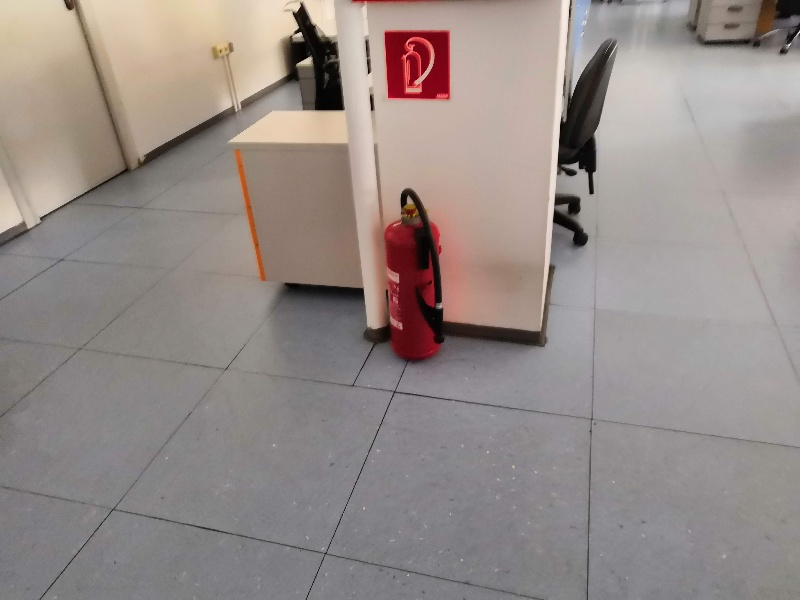vataparat: (385, 189, 446, 361)
